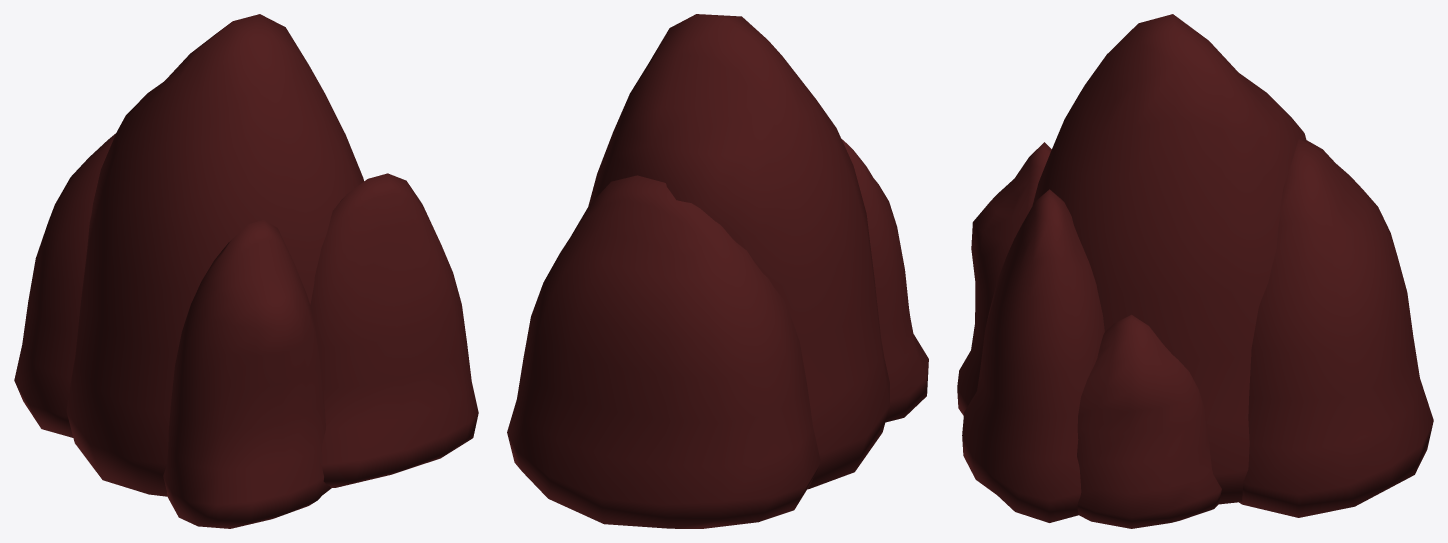
Rendered from rock.fbx.
3 views of the same model, side by side, from view 1: azimuth 30°, elevation 25°; view 2: azimuth 150°, elevation 25°; view 3: azimuth 270°, elevation 25° (orthographic). The views are drawn at different scales.
Parts seen in each view (by area): view 1: pCube6; view 2: pCube6; view 3: pCube6.
Boxes of the visible parts, <box> form: pCube6: <box>14,14,478,528</box>; pCube6: <box>507,14,928,528</box>; pCube6: <box>957,14,1433,528</box>.
Bounding box in the file's own units: 6.66 × 8.57 × 8.04.
